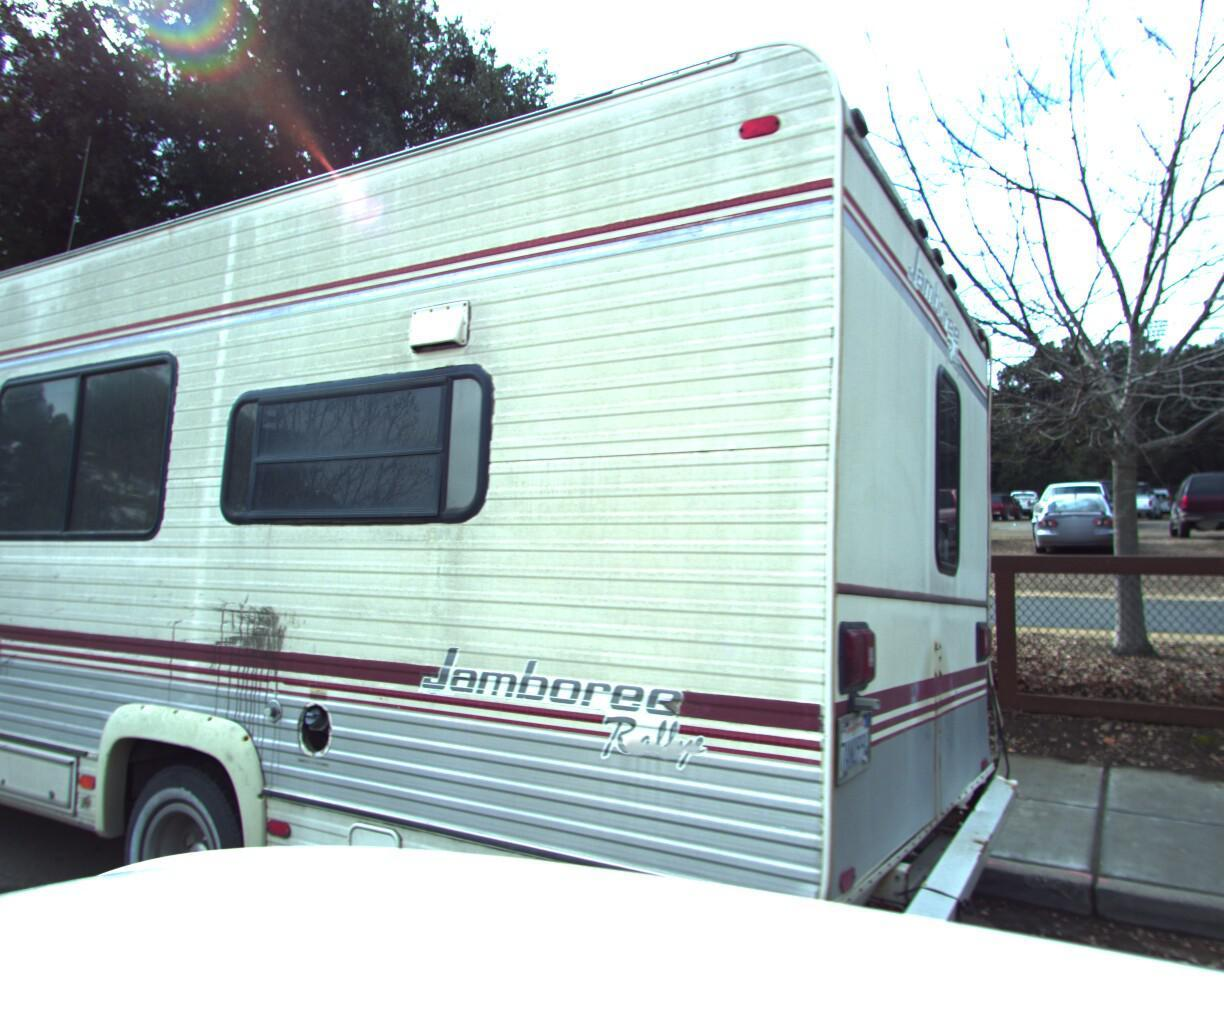other_vehicle: (0, 0, 1062, 1024)
